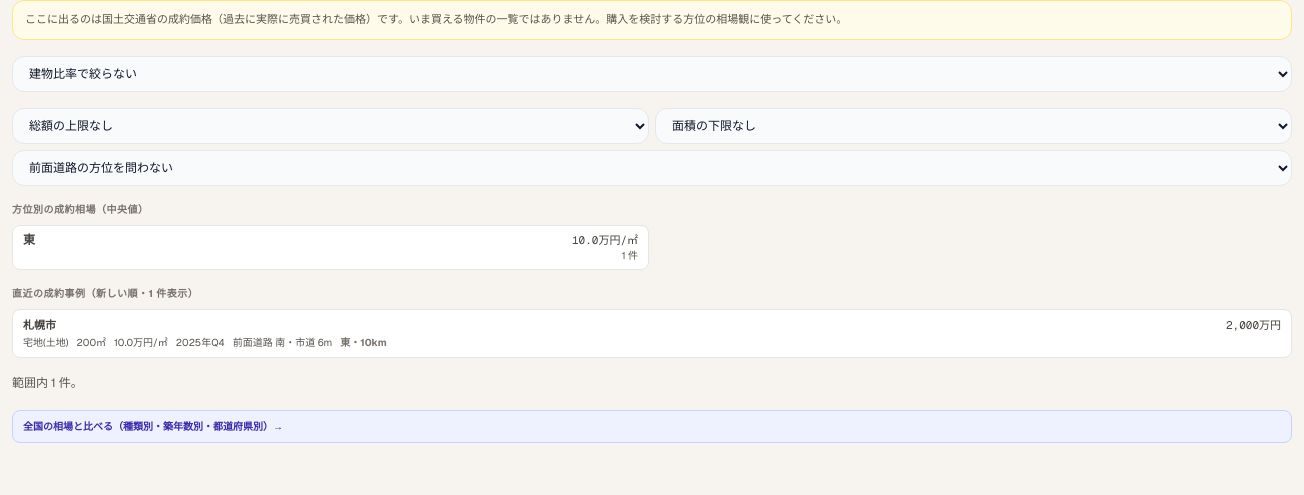
Test: 画面: 前面道路の方位 › 選ぶと URL に載り、行に前面道路が出る
The width and height of the screenshot is (1304, 495).
Check: the text "前面道路 南・市道 6m" is shown, box [233,336,332,349]
Select "南" in the dropdown named "前面道路の方位" at (652, 168), box [12,150,1292,186]
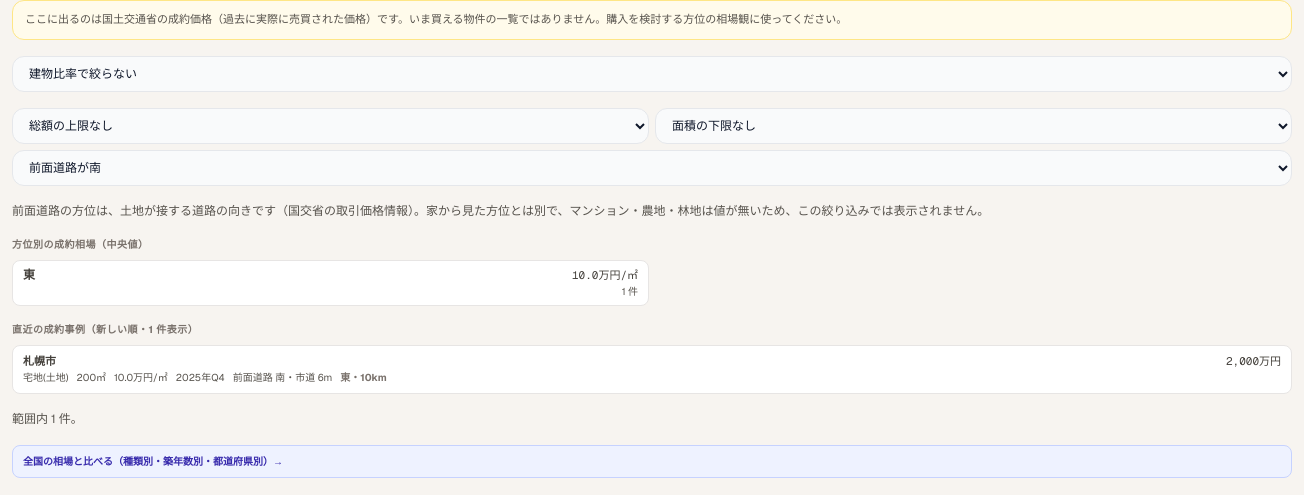
Check: the text "家から見た方位とは別" is shown, box [12,203,989,219]
